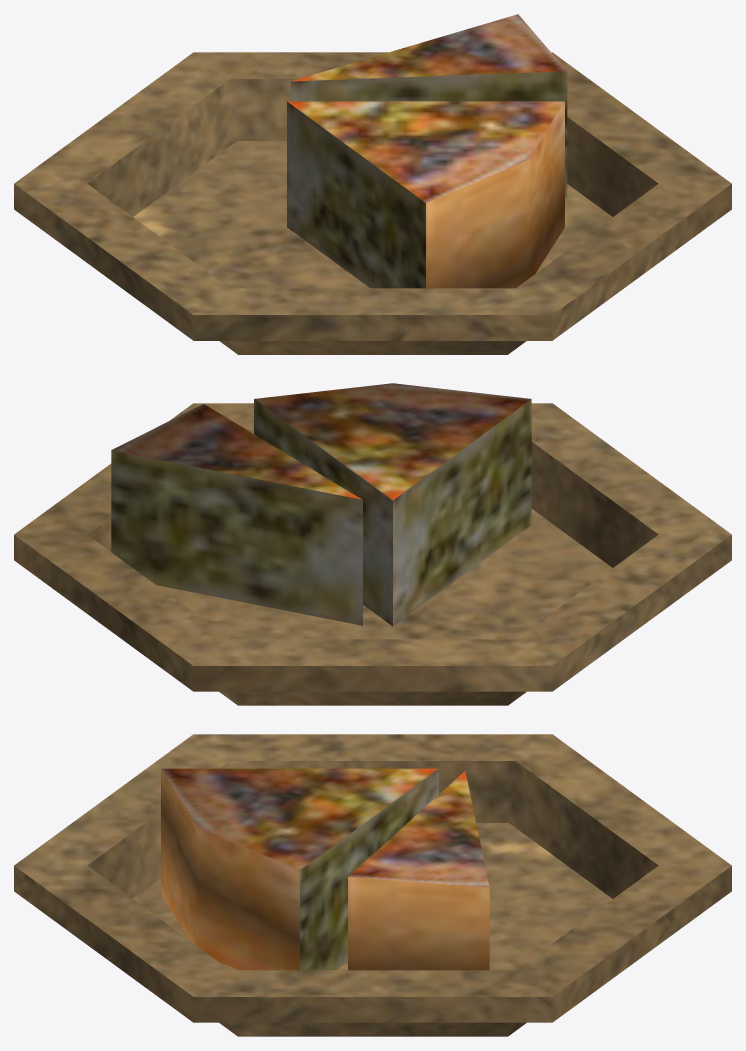
File: platter-of-pie.glb
The picture shows the model from 3 angles, top to bottom: view 1: azimuth 30°, elevation 25°; view 2: azimuth 150°, elevation 25°; view 3: azimuth 270°, elevation 25°; orthographic projection.
Parts seen in each view (by area): view 1: platter01, pie01, pie02; view 2: platter01, pie01, pie02; view 3: platter01, pie01, pie02.
Boxes of the visible parts, <box> form: platter01: <box>14,52,731,354</box>; pie01: <box>287,101,564,288</box>; pie02: <box>290,14,567,197</box>; platter01: <box>14,403,731,705</box>; pie01: <box>254,383,531,626</box>; pie02: <box>111,404,362,625</box>; platter01: <box>14,734,731,1036</box>; pie01: <box>161,768,438,970</box>; pie02: <box>348,771,489,970</box>.
Size of the model in its own units: 0.1605 by 0.0427 by 0.1854.
Materials: 2 (2 with a texture image).
